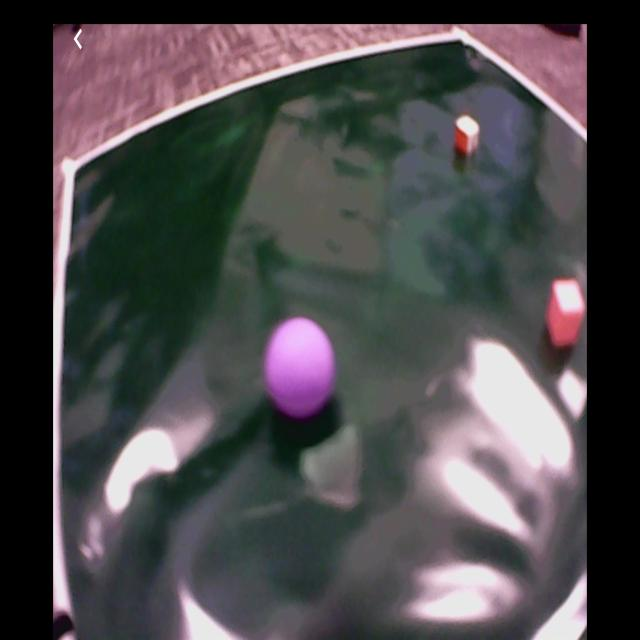ball: (266, 319, 336, 417)
